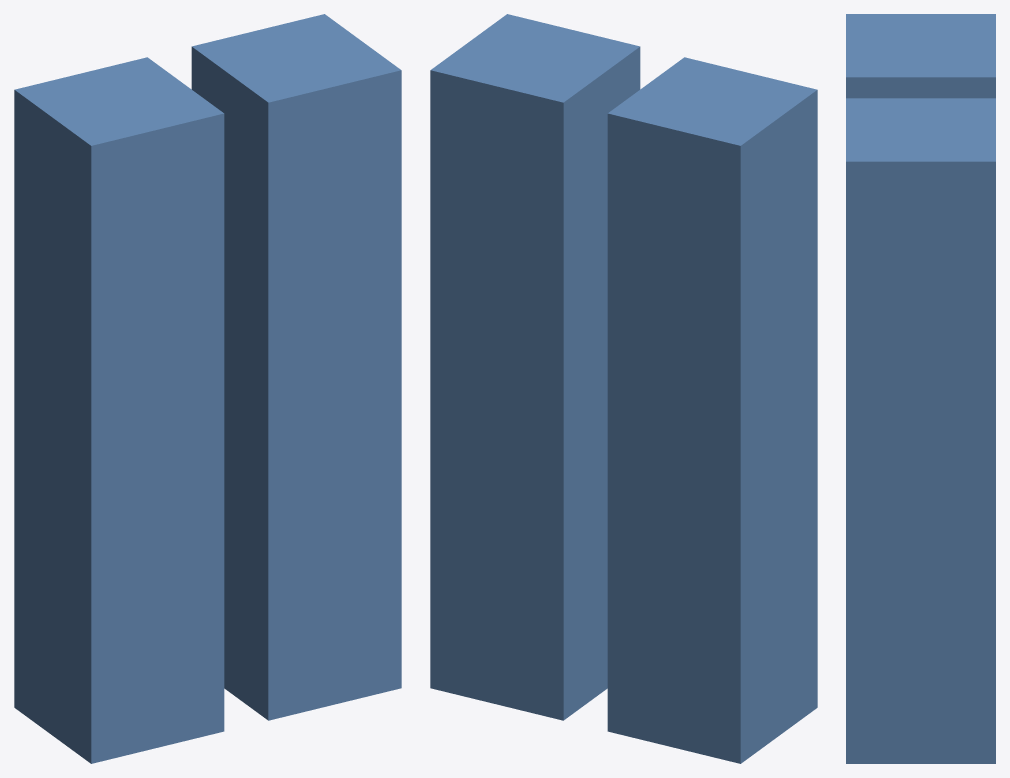
Rendered from trousers_jeans.glb.
The picture shows the model from 3 angles, left to right: view 1: azimuth 30°, elevation 25°; view 2: azimuth 150°, elevation 25°; view 3: azimuth 270°, elevation 25°; orthographic projection. The views are drawn at different scales.
Parts seen in each view (by area): view 1: leg_l, leg_r; view 2: leg_l, leg_r; view 3: leg_r, leg_l.
Boxes of the visible parts, <box> form: leg_l: <box>14,57,224,763</box>; leg_r: <box>191,14,401,720</box>; leg_l: <box>607,57,817,763</box>; leg_r: <box>430,14,640,720</box>; leg_r: <box>846,98,995,763</box>; leg_l: <box>846,14,995,98</box>.
Size of the model in its own units: 0.4202 by 0.7998 by 0.1802.
